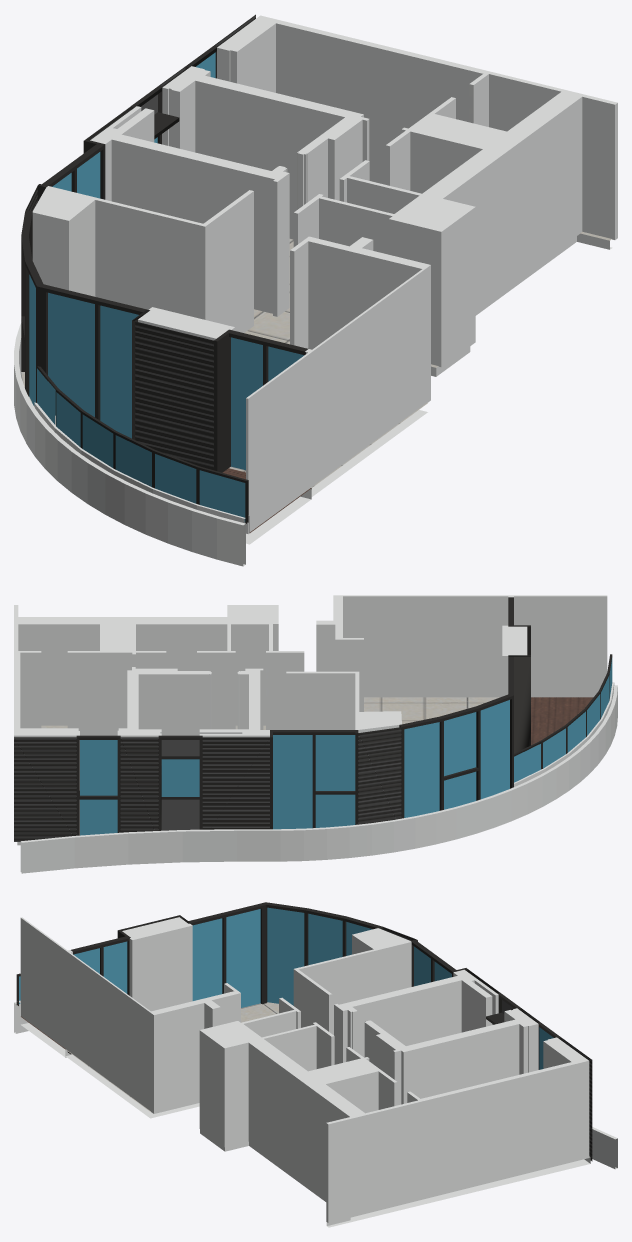
File: APT_5-7_Int_4Re.fbx
The picture shows the model from 3 angles, top to bottom: view 1: azimuth 30°, elevation 25°; view 2: azimuth 150°, elevation 25°; view 3: azimuth 270°, elevation 25°; orthographic projection. The views are drawn at different scales.
Visible parts, largest first — view 1: APT_5-7_Int_4Re; view 2: APT_5-7_Int_4Re; view 3: APT_5-7_Int_4Re.
Boxes of the visible parts, left/top/right/bottom form: APT_5-7_Int_4Re: left=14, top=14, right=617, bottom=566; APT_5-7_Int_4Re: left=14, top=595, right=617, bottom=873; APT_5-7_Int_4Re: left=14, top=902, right=617, bottom=1227.
Size of the model in its own units: 1472 by 355 by 1641.
Materials: 1 (1 with a texture image).
